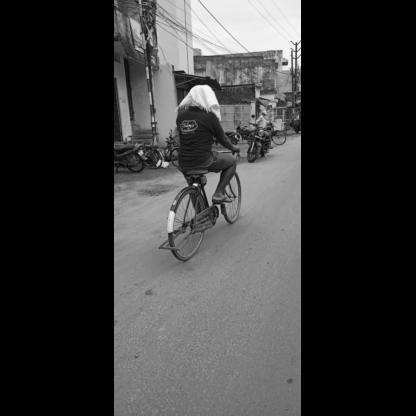Bicycle: (160, 138, 255, 266)
